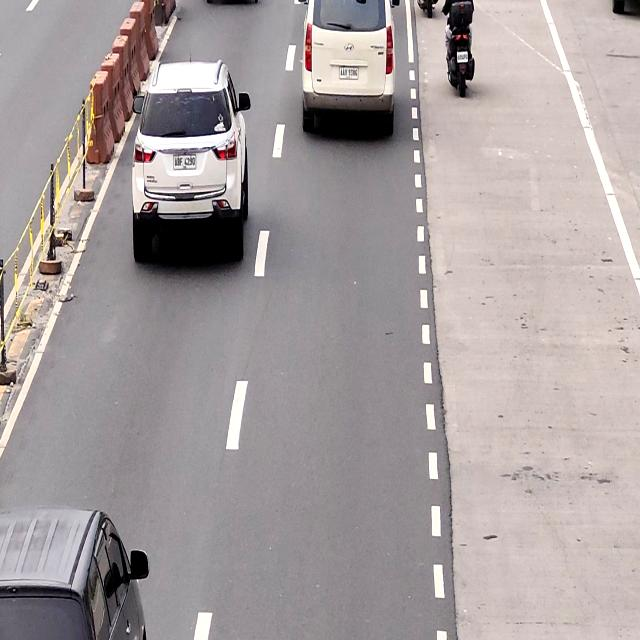Car: (127, 61, 240, 262), (0, 509, 149, 640), (302, 0, 393, 126)
License-Plate: (171, 154, 200, 168), (338, 64, 360, 82), (457, 52, 470, 62)
Motorcycle: (445, 1, 478, 95)
